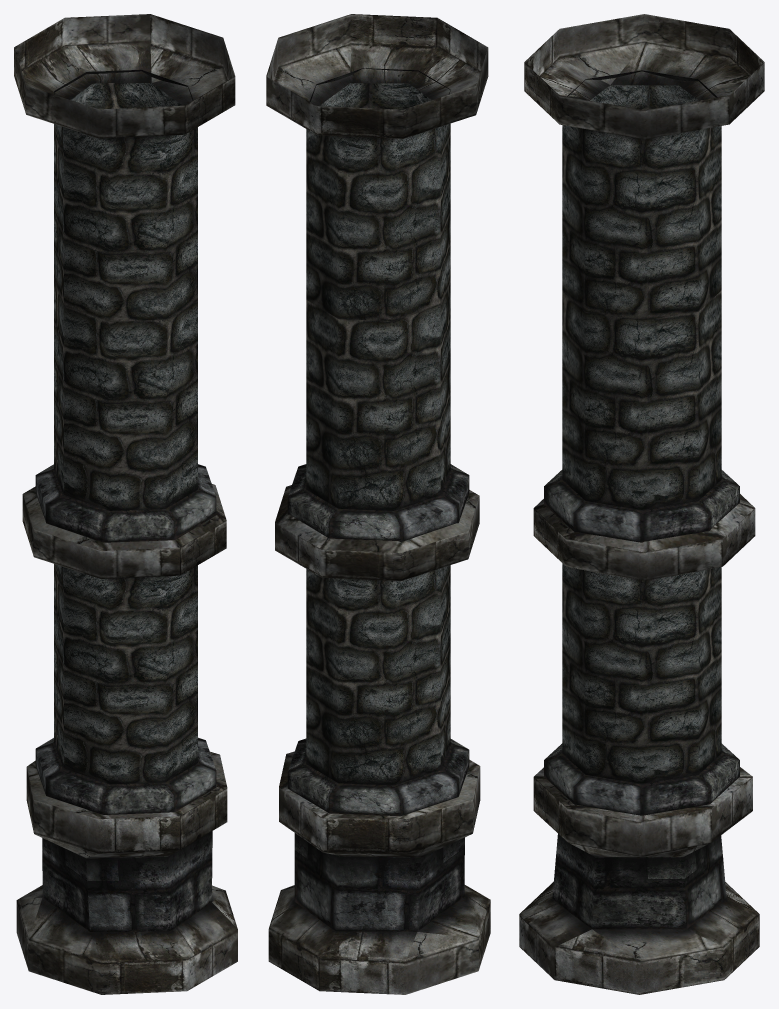
Rendered from tall_castlestone.dae.
3 views of the same model, side by side, from view 1: azimuth 30°, elevation 25°; view 2: azimuth 150°, elevation 25°; view 3: azimuth 270°, elevation 25° (orthographic).
Parts seen in each view (by area): view 1: castle_pillar; view 2: castle_pillar; view 3: castle_pillar.
Part boxes in pixels (<box>): castle_pillar: <box>14,14,237,994</box>; castle_pillar: <box>266,14,490,994</box>; castle_pillar: <box>519,14,764,994</box>.
Size of the model in its own units: 1.87 by 8 by 2.01.
